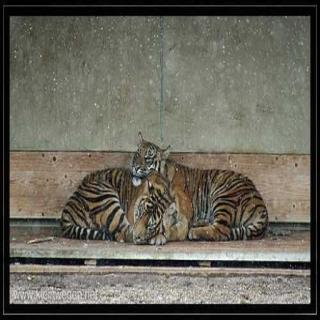Tiger: (123, 132, 274, 244), (49, 162, 177, 244)
